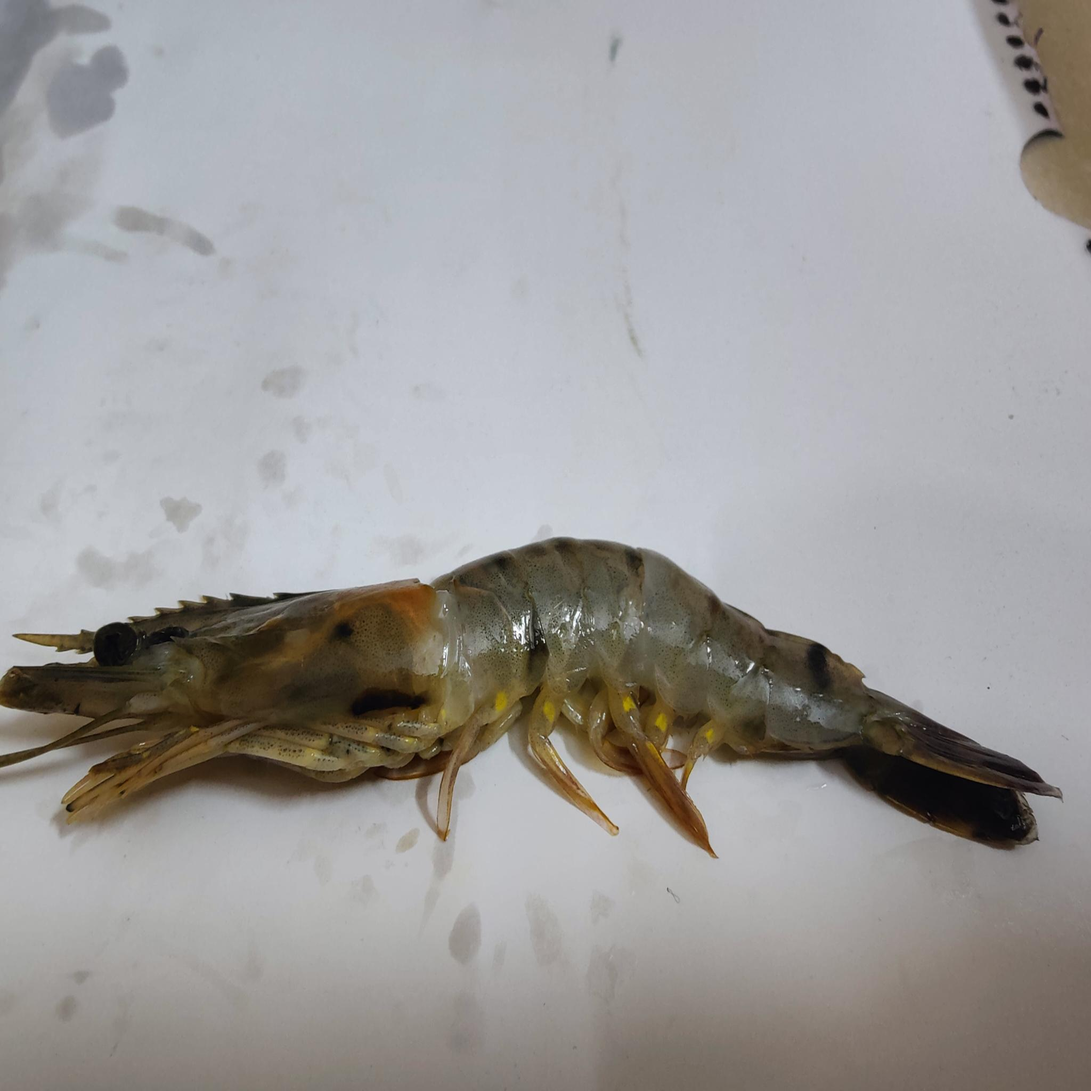blackgill: (346, 683, 434, 722)
